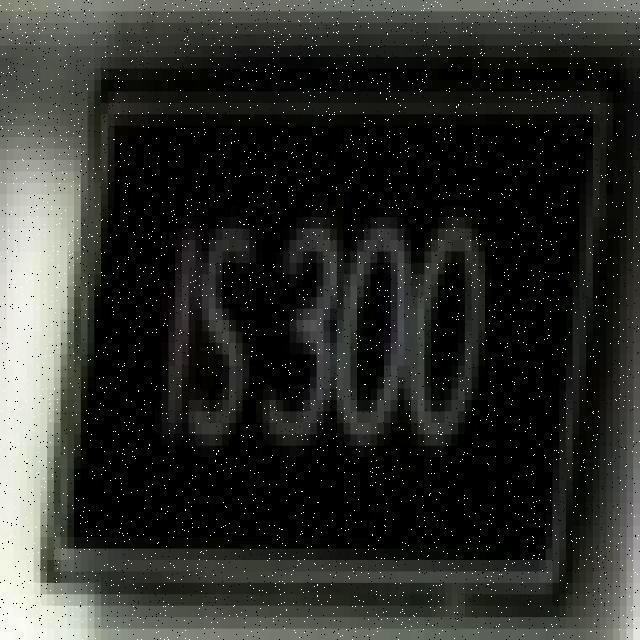LicensePlate: (29, 23, 625, 634)
